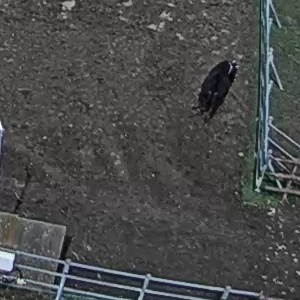cow: (180, 42, 244, 127)
